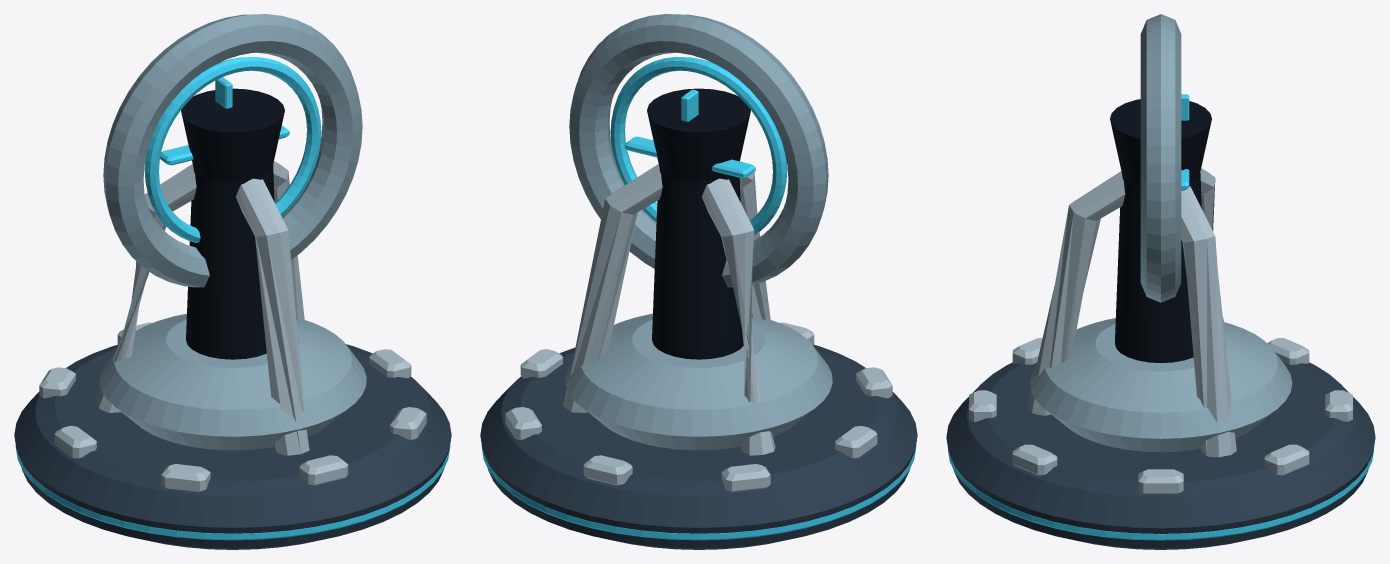
The model's file is strike.obj.
3 renders of one model, left to right at view 1: azimuth 30°, elevation 25°; view 2: azimuth 150°, elevation 25°; view 3: azimuth 270°, elevation 25°, orthographic.
Parts seen in each view (by area): view 1: strike; view 2: strike; view 3: strike.
Boxes of the visible parts, x1,y1,x2,y2 form: strike: (14, 14, 451, 549); strike: (480, 14, 917, 549); strike: (946, 14, 1375, 549).
Bounding box in the file's own units: 0.294 × 0.339 × 0.294.
